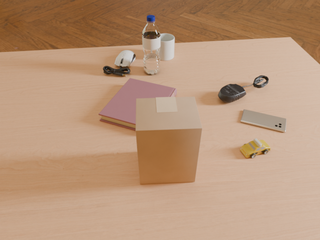book: (99, 78, 177, 131)
bottle: (142, 15, 161, 75)
box: (135, 97, 202, 184)
cup: (159, 34, 174, 61)
mouse: (218, 84, 246, 103), (115, 50, 136, 68)
phone: (241, 109, 286, 133)
toy_car: (240, 139, 271, 158)
